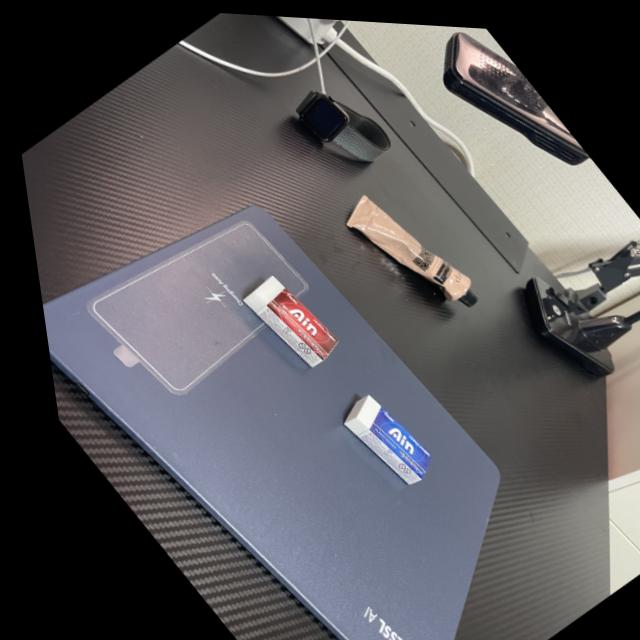blue: (303, 370, 443, 507)
red: (218, 256, 346, 384)
